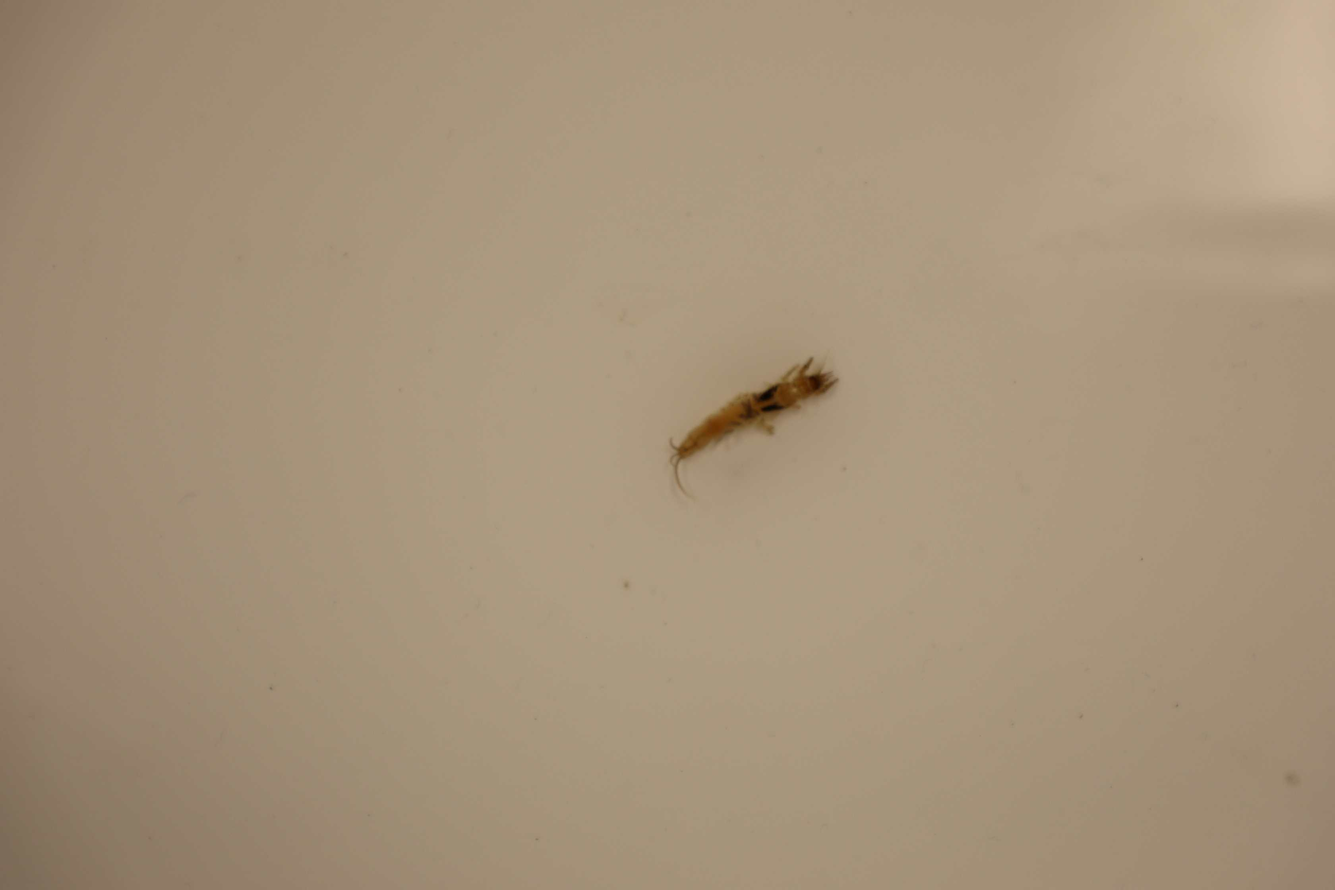Other: (661, 354, 837, 508)
